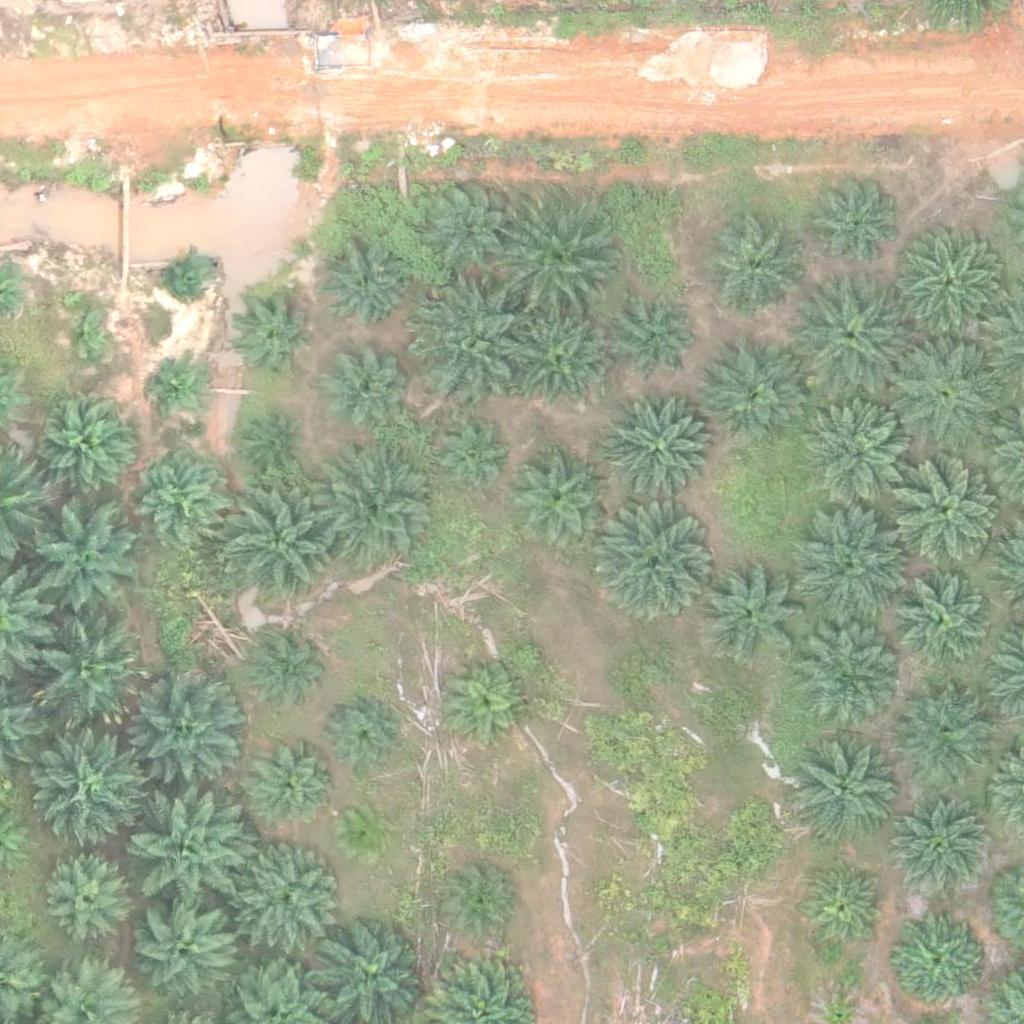Kelapa_Sawit: (791, 736, 904, 850), (594, 508, 707, 622), (320, 457, 433, 571), (888, 458, 1001, 571), (888, 229, 1001, 342), (802, 399, 915, 512), (791, 622, 904, 735), (225, 480, 338, 593), (128, 796, 241, 909), (24, 504, 137, 617), (37, 737, 150, 850), (887, 335, 999, 449), (126, 670, 238, 784), (800, 278, 912, 391), (797, 514, 909, 627), (605, 394, 717, 507), (502, 207, 614, 320), (412, 286, 524, 399), (229, 846, 341, 959), (35, 621, 147, 734), (890, 797, 990, 898), (806, 172, 906, 273), (700, 560, 800, 661), (701, 345, 801, 446), (508, 305, 608, 406), (414, 172, 514, 273), (134, 896, 234, 997), (898, 683, 998, 783), (893, 571, 993, 671), (705, 222, 805, 322), (509, 447, 609, 547), (40, 396, 140, 496), (889, 917, 977, 1005), (44, 855, 132, 943), (320, 243, 407, 332), (797, 865, 884, 953), (614, 296, 701, 384), (427, 413, 514, 501), (320, 342, 407, 430), (136, 446, 223, 534), (230, 290, 317, 378), (440, 663, 527, 751), (257, 749, 332, 825), (324, 701, 399, 777), (248, 627, 323, 702), (441, 863, 516, 938), (152, 359, 202, 410), (335, 809, 385, 859), (159, 249, 209, 299), (250, 418, 300, 468), (62, 312, 112, 362)
